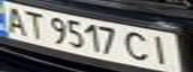1: (81, 21, 103, 53)
5: (63, 18, 84, 50)
7: (96, 24, 121, 56)
9: (42, 14, 69, 45)
A: (0, 3, 30, 36)
C: (121, 29, 154, 63)
I: (145, 34, 178, 66)
T: (21, 8, 48, 39)
